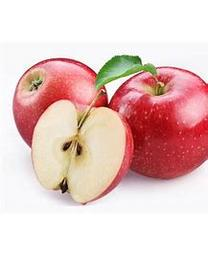apple: (32, 88, 132, 204), (107, 66, 207, 179), (11, 57, 96, 146)
